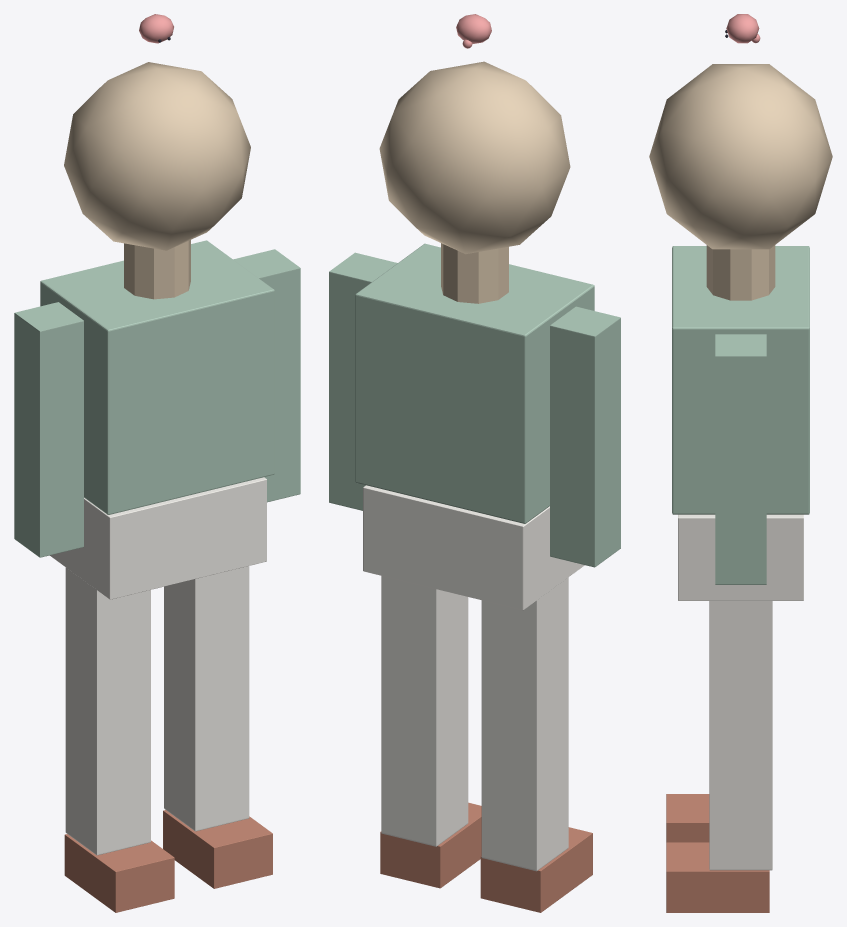
Rendered from sanne-stall.glb.
The picture shows the model from 3 angles, left to right: view 1: azimuth 30°, elevation 25°; view 2: azimuth 150°, elevation 25°; view 3: azimuth 270°, elevation 25°; orthographic projection. The views are drawn at different scales.
Parts seen in each view (by area): view 1: sanne-stall_Body, sanne-stall_Head, sanne-stall_LeftLeg, sanne-stall_RightLeg, sanne-stall_LeftArm, sanne-stall_Hips, sanne-stall_RightArm, sanne-stall_LeftShoe, sanne-stall_RightShoe, sanne-stall_Neck, sanne-stall_Scarf; view 2: sanne-stall_Body, sanne-stall_Head, sanne-stall_LeftLeg, sanne-stall_RightLeg, sanne-stall_LeftArm, sanne-stall_Hips, sanne-stall_RightArm, sanne-stall_LeftShoe, sanne-stall_RightShoe, sanne-stall_Neck, sanne-stall_Scarf; view 3: sanne-stall_Head, sanne-stall_Body, sanne-stall_RightLeg, sanne-stall_RightArm, sanne-stall_Hips, sanne-stall_RightShoe, sanne-stall_Neck, sanne-stall_LeftShoe, sanne-stall_Scarf.
Boxes of the visible parts, box(x1,y1,x2,y2) form: sanne-stall_Body: box(40, 240, 274, 514); sanne-stall_Head: box(64, 62, 250, 250); sanne-stall_LeftLeg: box(65, 567, 150, 855); sanne-stall_RightLeg: box(164, 566, 249, 831); sanne-stall_LeftArm: box(14, 302, 83, 557); sanne-stall_Hips: box(50, 477, 266, 599); sanne-stall_RightArm: box(233, 249, 300, 502); sanne-stall_LeftShoe: box(64, 834, 174, 912); sanne-stall_RightShoe: box(163, 810, 272, 888); sanne-stall_Neck: box(124, 240, 190, 299); sanne-stall_Scarf: box(139, 14, 173, 43); sanne-stall_Body: box(355, 243, 594, 523); sanne-stall_Head: box(379, 61, 570, 254); sanne-stall_LeftLeg: box(481, 577, 568, 871); sanne-stall_RightLeg: box(381, 576, 468, 846); sanne-stall_LeftArm: box(550, 306, 620, 567); sanne-stall_Hips: box(363, 485, 584, 610); sanne-stall_RightArm: box(329, 252, 397, 510); sanne-stall_LeftShoe: box(480, 827, 592, 912); sanne-stall_RightShoe: box(380, 802, 481, 888); sanne-stall_Neck: box(441, 243, 508, 303); sanne-stall_Scarf: box(456, 14, 491, 43); sanne-stall_Head: box(649, 64, 832, 249); sanne-stall_Body: box(672, 246, 809, 514); sanne-stall_RightLeg: box(709, 601, 772, 870); sanne-stall_RightArm: box(715, 334, 766, 584); sanne-stall_Hips: box(678, 514, 803, 600); sanne-stall_RightShoe: box(666, 842, 769, 912); sanne-stall_Neck: box(706, 245, 775, 300); sanne-stall_LeftShoe: box(666, 794, 709, 842); sanne-stall_Scarf: box(726, 14, 759, 43).
Bounding box in the file's own units: 0.53 × 1.65 × 0.32.
